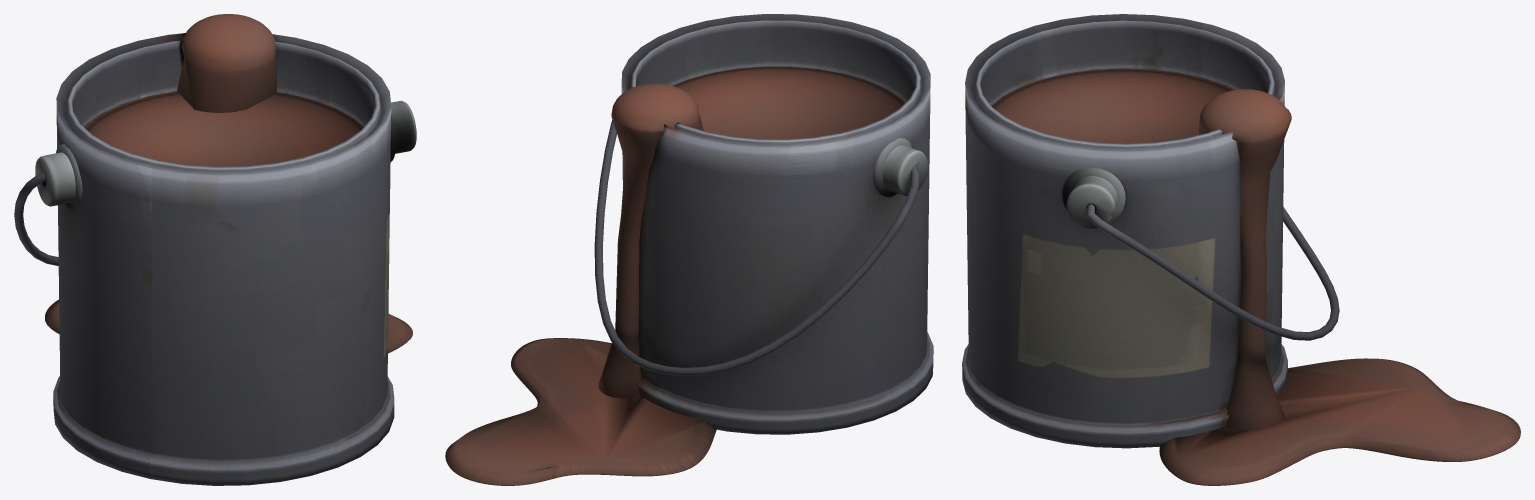
The picture shows the model from 3 angles, left to right: view 1: azimuth 30°, elevation 25°; view 2: azimuth 150°, elevation 25°; view 3: azimuth 270°, elevation 25°; orthographic projection. The views are drawn at different scales.
Visible parts, largest first — view 1: Pot, Paint_Dribble, Attachment_R, Attachment_L, Handle, Paint; view 2: Pot, Paint, Paint_Dribble, Handle, Attachment_R; view 3: Pot, Paint, Paint_Dribble, Handle, Attachment_L.
Boxes of the visible parts, x1,y1,x2,y2 form: Pot: (53,33,394,485); Paint_Dribble: (177,14,276,112); Attachment_R: (35,144,82,209); Attachment_L: (390,100,416,161); Handle: (14,172,58,265); Paint: (45,299,412,353); Pot: (621,14,933,434); Paint: (445,338,716,485); Paint_Dribble: (598,83,703,398); Handle: (594,120,919,376); Attachment_R: (873,138,927,197); Pot: (962,14,1287,448); Paint: (1159,358,1520,485); Paint_Dribble: (1198,89,1291,429); Handle: (1086,204,1339,340); Attachment_L: (1062,167,1125,228).
Size of the model in its own units: 2.86 by 2.23 by 3.58.
1 material, 1 textured.
